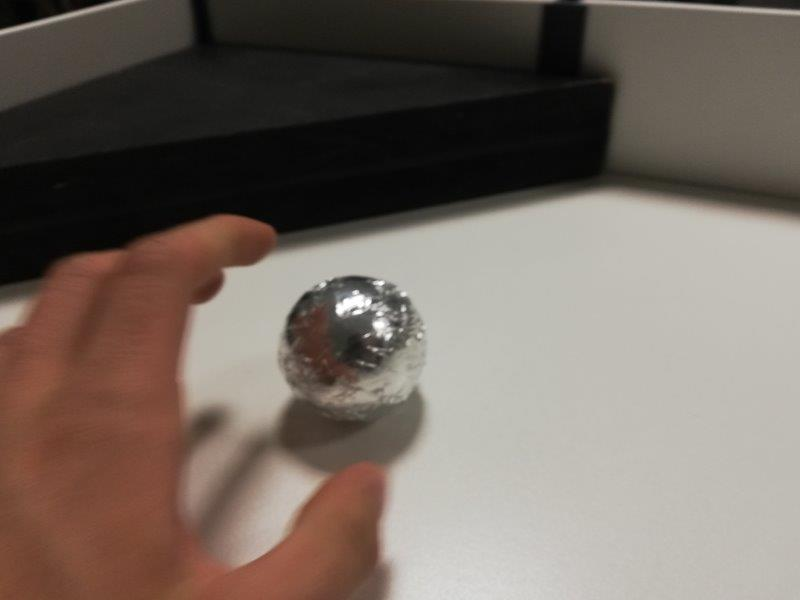bianca: (276, 274, 429, 426)
